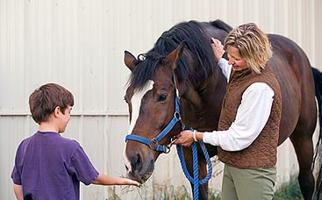person: (11, 84, 141, 200)
